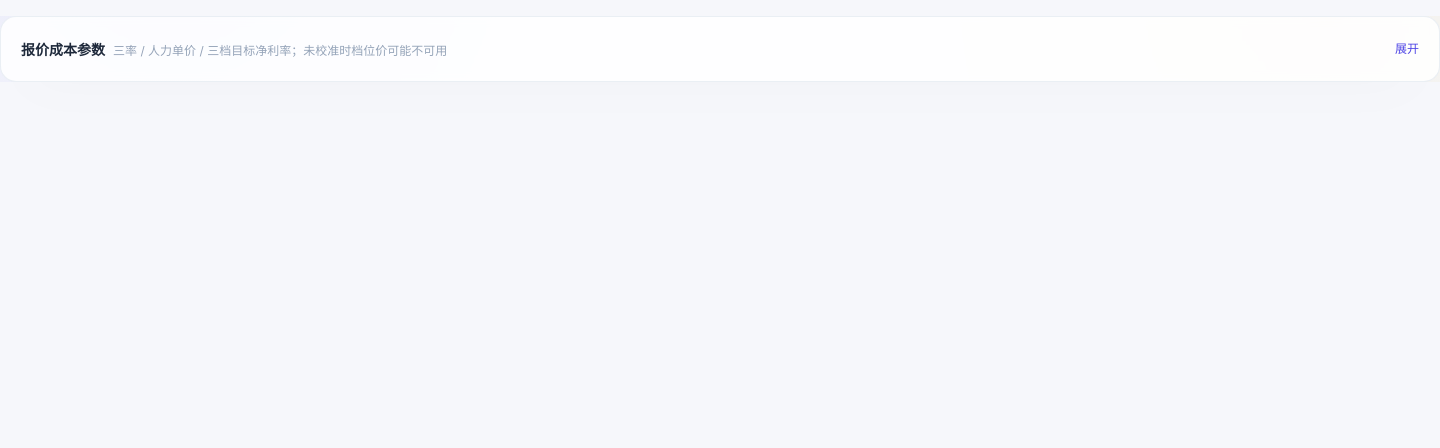
PricingCostSettings › GET 渲染默认值：三率、人力单价行与三档目标净利率
Click the button "报价成本参数".
click(63, 50)  # box [21,37,1419,61]
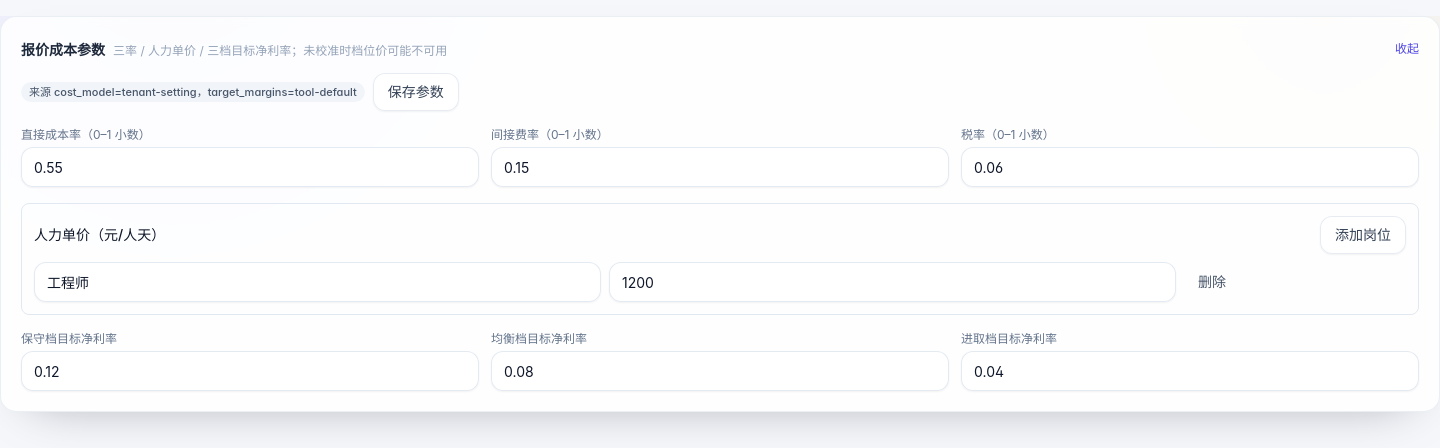
Now the number field labelled "直接成本率" holds "0.55", box [21,147,479,187]
Now the number field labelled "间接费率" holds "0.15", box [491,147,949,187]
Now the number field labelled "税率" holds "0.06", box [961,147,1419,187]
